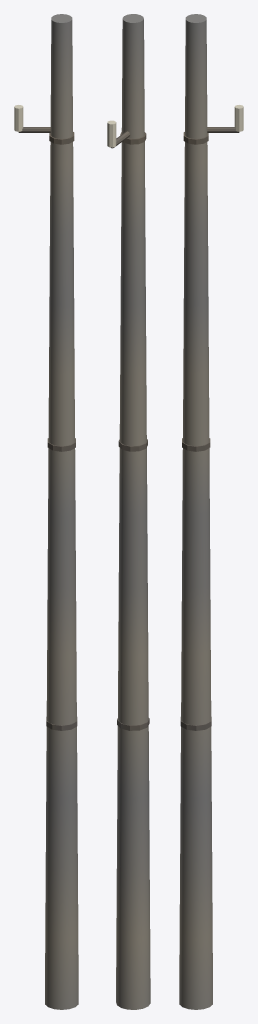
The model's file is ART_MoatUtilityPole.glb.
The picture shows the model from 3 angles, left to right: view 1: azimuth 90°, elevation 25°; view 2: azimuth 150°, elevation 25°; view 3: azimuth 270°, elevation 25°; orthographic projection.
Visible parts, largest first — view 1: ART_MoatUtilityPole; view 2: ART_MoatUtilityPole; view 3: ART_MoatUtilityPole.
Boxes of the visible parts, bbox=[...] form: ART_MoatUtilityPole: bbox=[14, 14, 78, 1009]; ART_MoatUtilityPole: bbox=[107, 14, 150, 1009]; ART_MoatUtilityPole: bbox=[179, 14, 243, 1009].
Size of the model in its own units: 0.34 by 10.6 by 0.6307.
